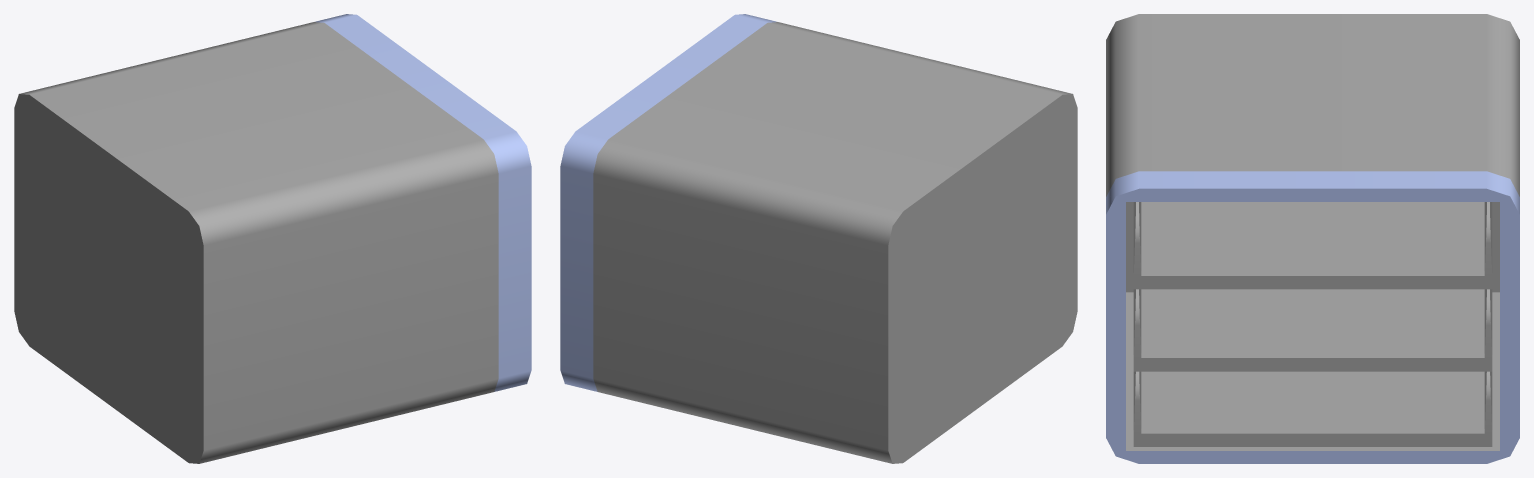
File: attendance sheet.fbx
3 renders of one model, left to right at view 1: azimuth 30°, elevation 25°; view 2: azimuth 150°, elevation 25°; view 3: azimuth 270°, elevation 25°, orthographic. The views are drawn at different scales.
Parts seen in each view (by area): view 1: pCube1; view 2: pCube1; view 3: pCube1, pCube4, pCube3, pCube2.
Boxes of the visible parts, <box> form: pCube1: <box>14,14,531,463</box>; pCube1: <box>560,14,1077,463</box>; pCube1: <box>1106,14,1519,463</box>; pCube4: <box>1133,202,1492,289</box>; pCube3: <box>1133,289,1492,371</box>; pCube2: <box>1133,371,1492,446</box>.
Size of the model in its own units: 7.2 by 5.28 by 7.2.
